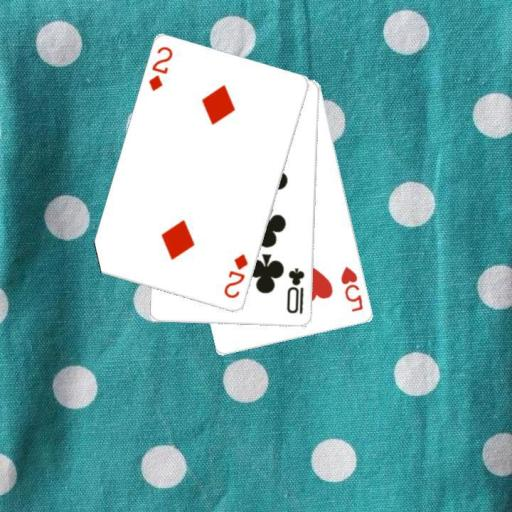10C: (284, 265, 307, 316)
2D: (146, 44, 175, 94), (221, 251, 250, 300)
5H: (338, 264, 365, 314)
